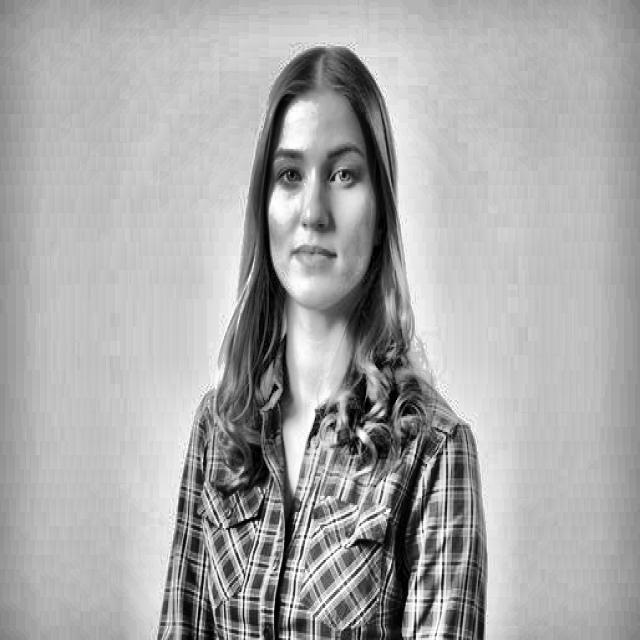neutral: (244, 40, 399, 354)
